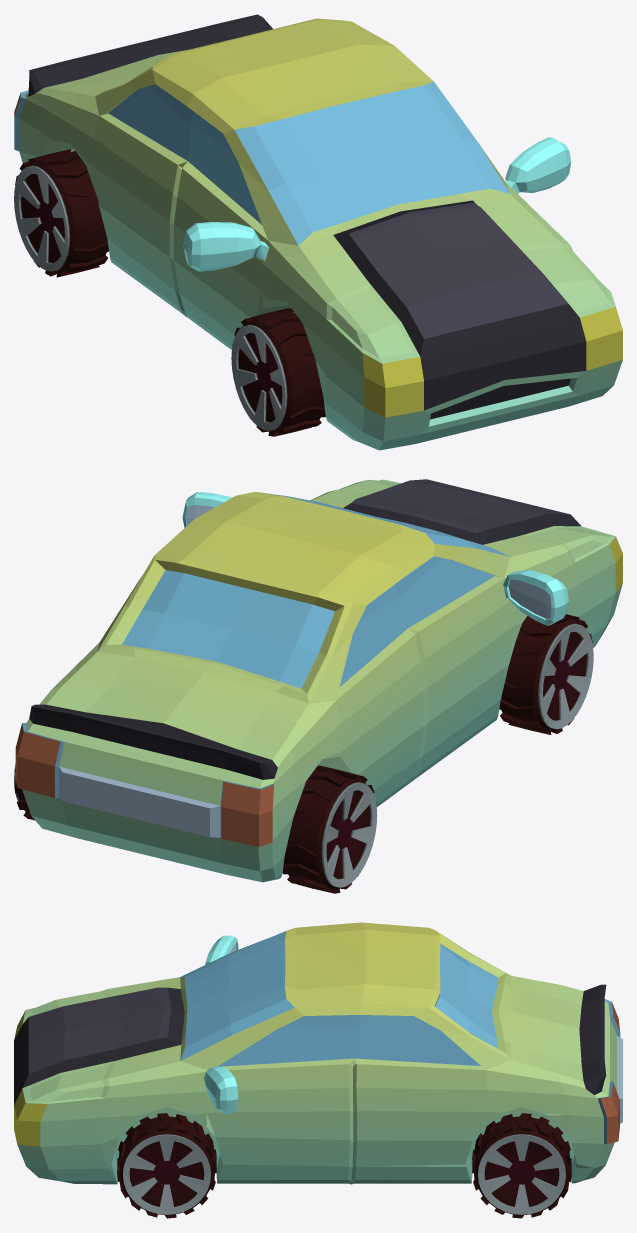
The model's file is машинка 3.fbx.
3 renders of one model, top to bottom at view 1: azimuth 30°, elevation 25°; view 2: azimuth 150°, elevation 25°; view 3: azimuth 270°, elevation 25°, orthographic. The views are drawn at different scales.
Visible parts, largest first — view 1: Car2.001, Cylinder.001, Cylinder, Zerk2.001; view 2: Car2.001, Cylinder.001, Cylinder, Zerk2.001; view 3: Car2.001, Cylinder.003, Cylinder.002, Zerk2.001.
Part boxes in pixels (box(x1,y1,x2,y2)): Car2.001: box(14, 14, 622, 450); Cylinder.001: box(14, 149, 108, 277); Cylinder: box(231, 308, 325, 436); Zerk2.001: box(183, 137, 571, 271); Car2.001: box(15, 479, 622, 882); Cylinder.001: box(282, 765, 377, 893); Cylinder: box(499, 614, 593, 734); Zerk2.001: box(182, 491, 568, 625); Car2.001: box(14, 922, 622, 1184); Cylinder.003: box(117, 1113, 216, 1218); Cylinder.002: box(472, 1113, 571, 1218); Zerk2.001: box(204, 935, 238, 1113).
Size of the model in its own units: 355 by 218 by 601.
